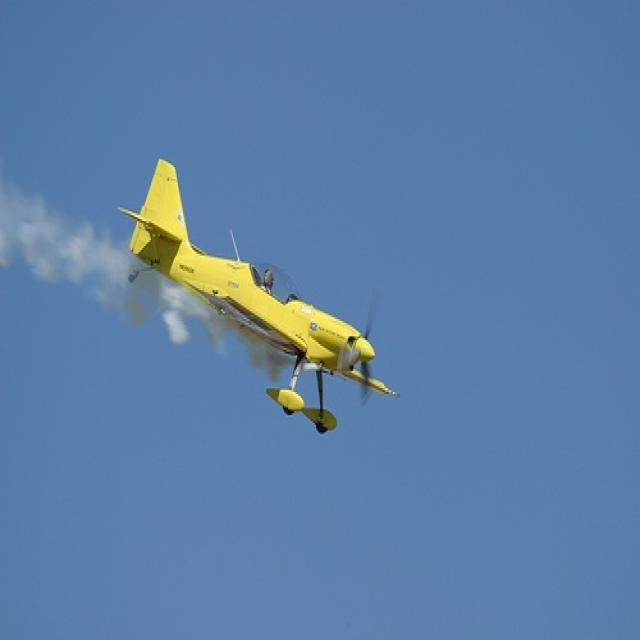aeroplane: (117, 156, 400, 436)
